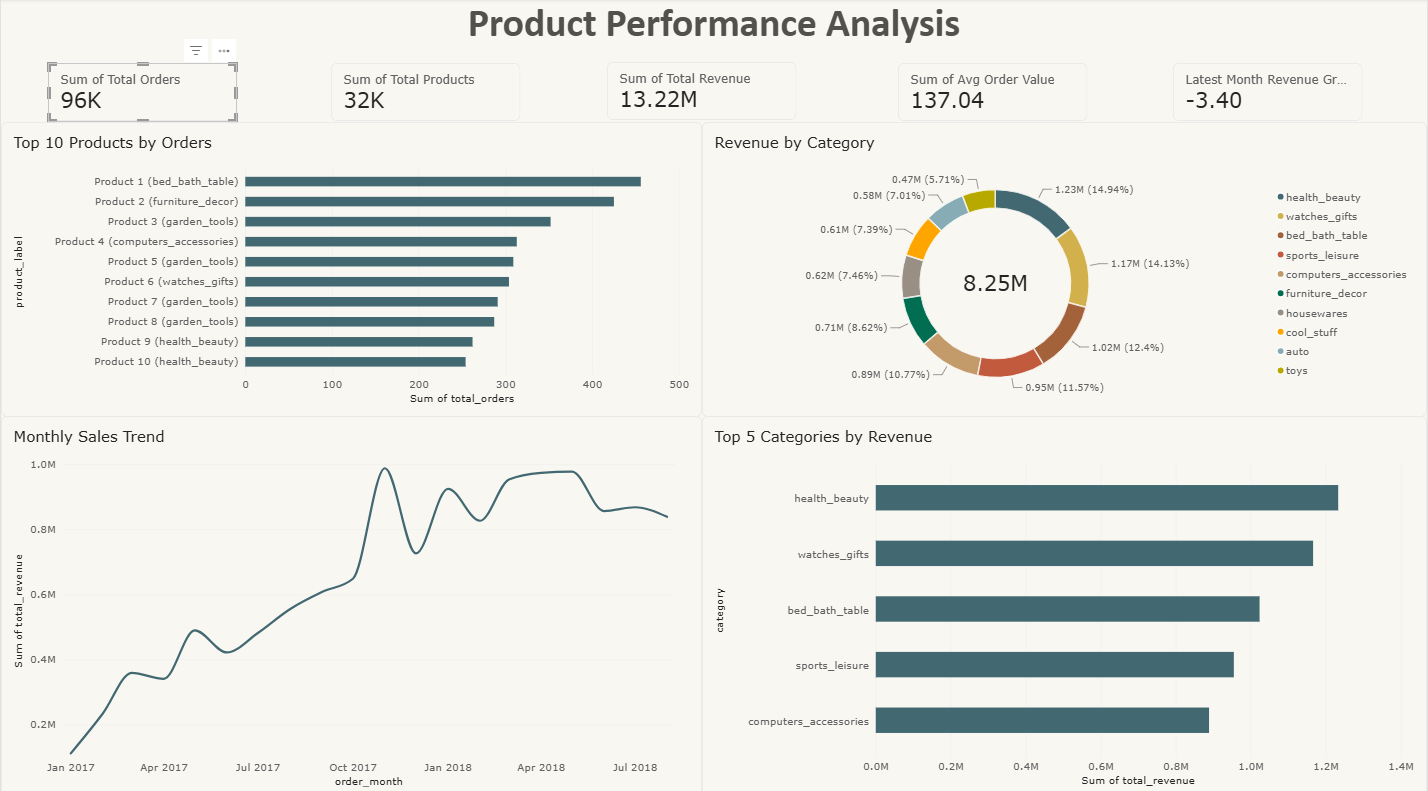

Layout of this report page (visuals, bound fields, positions):
{"tool":"powerbi","page":{"name":"Page 1","canvas":[1920,1080],"ordinal":0},"visuals":[{"type":"cardVisual","fields":{"Data":["Sum(kpi_summary.total_products_sold)"]},"box":[444.4,87.5,255,78.8],"z":0},{"type":"cardVisual","fields":{"Data":["Sum(kpi_summary.total_revenue)"]},"box":[816.1,86.2,255,78.8],"z":1000},{"type":"cardVisual","fields":{"Data":["Sum(kpi_summary.avg_order_value)"]},"box":[1207.9,87.5,255,78.8],"z":2000},{"type":"textbox","box":[0,0,1920,72.9],"z":3000},{"type":"cardVisual","fields":{"Data":["Sum(kpi_summary.Total Orders)"]},"box":[63.3,87.5,255,78.8],"z":4000},{"type":"clusteredBarChart","title":"Top 10 Products by Orders","fields":{"Category":["top_10_products.product_label"],"Y":["Sum(top_10_products.total_orders)"]},"box":[0,166.3,944,396.8],"z":5000},{"type":"donutChart","title":"Revenue by Category","fields":{"Category":["revenue_by_category.category"],"Y":["Sum(revenue_by_category.total_revenue)"]},"box":[944,166.3,976,396.8],"z":6000},{"type":"lineChart","title":"Monthly Sales Trend","fields":{"Category":["monthly_trend.order_month"],"Y":["Sum(monthly_trend.total_revenue)"]},"box":[0,563.2,944,516.5],"z":7000},{"type":"clusteredBarChart","title":"Top 5 Categories by Revenue","fields":{"Category":["revenue_by_category.category"],"Y":["Sum(revenue_by_category.total_revenue)"]},"box":[944,563,976,516],"z":8000},{"type":"cardVisual","fields":{"Data":["monthly_trend.Latest Month Revenue Growth %"]},"box":[1578.3,87.5,255,78.8],"z":8001}]}

Visuals, with their boxes in screenshot pixels (x1, y1, x2, y2), scaled from the page's 1920x1080 canvas onto the 1428x791 screenshot:
cardVisual - Sum(kpi_summary.total_products_sold): [left=331, top=64, right=520, bottom=122]
cardVisual - Sum(kpi_summary.total_revenue): [left=607, top=63, right=797, bottom=121]
cardVisual - Sum(kpi_summary.avg_order_value): [left=898, top=64, right=1088, bottom=122]
textbox: [left=0, top=0, right=1427, bottom=53]
cardVisual - Sum(kpi_summary.Total Orders): [left=47, top=64, right=237, bottom=122]
"Top 10 Products by Orders" clusteredBarChart: [left=0, top=122, right=702, bottom=412]
"Revenue by Category" donutChart: [left=702, top=122, right=1427, bottom=412]
"Monthly Sales Trend" lineChart: [left=0, top=412, right=702, bottom=790]
"Top 5 Categories by Revenue" clusteredBarChart: [left=702, top=412, right=1427, bottom=790]
cardVisual - monthly_trend.Latest Month Revenue Growth %: [left=1174, top=64, right=1364, bottom=122]
